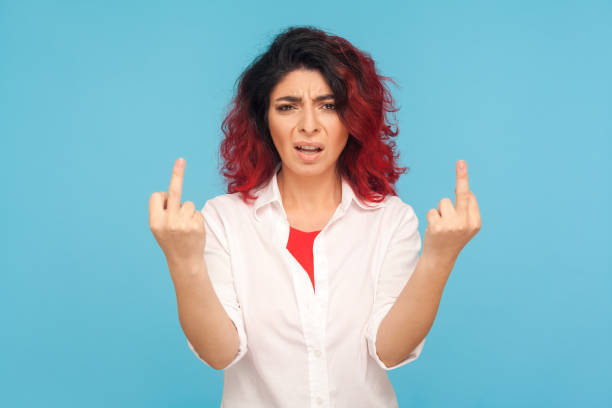insulting_gesture: (150, 153, 214, 265), (422, 158, 482, 263)
